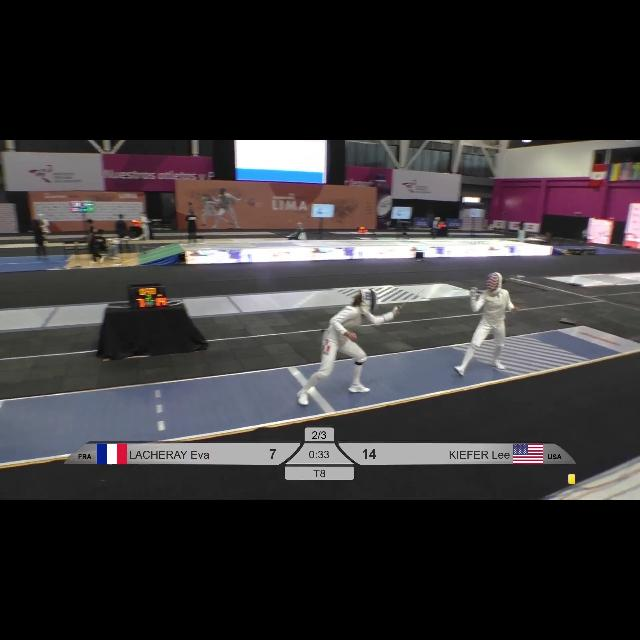blade: (396, 276, 442, 312)
